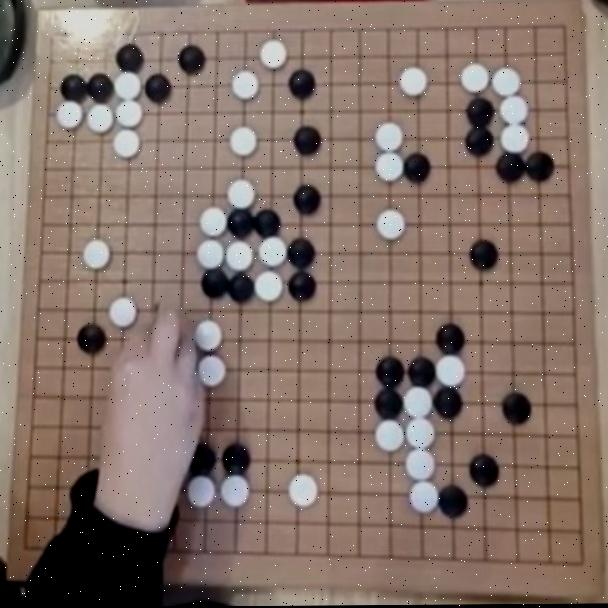corners: (36, 19, 70, 54), (570, 544, 598, 582), (14, 527, 42, 565), (549, 13, 576, 44)
